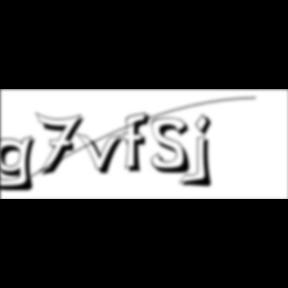7: (36, 111, 90, 179)
S: (151, 117, 197, 176)
f: (124, 111, 156, 175)
g: (1, 134, 44, 194)
j: (192, 113, 218, 191)
v: (76, 131, 130, 177)
